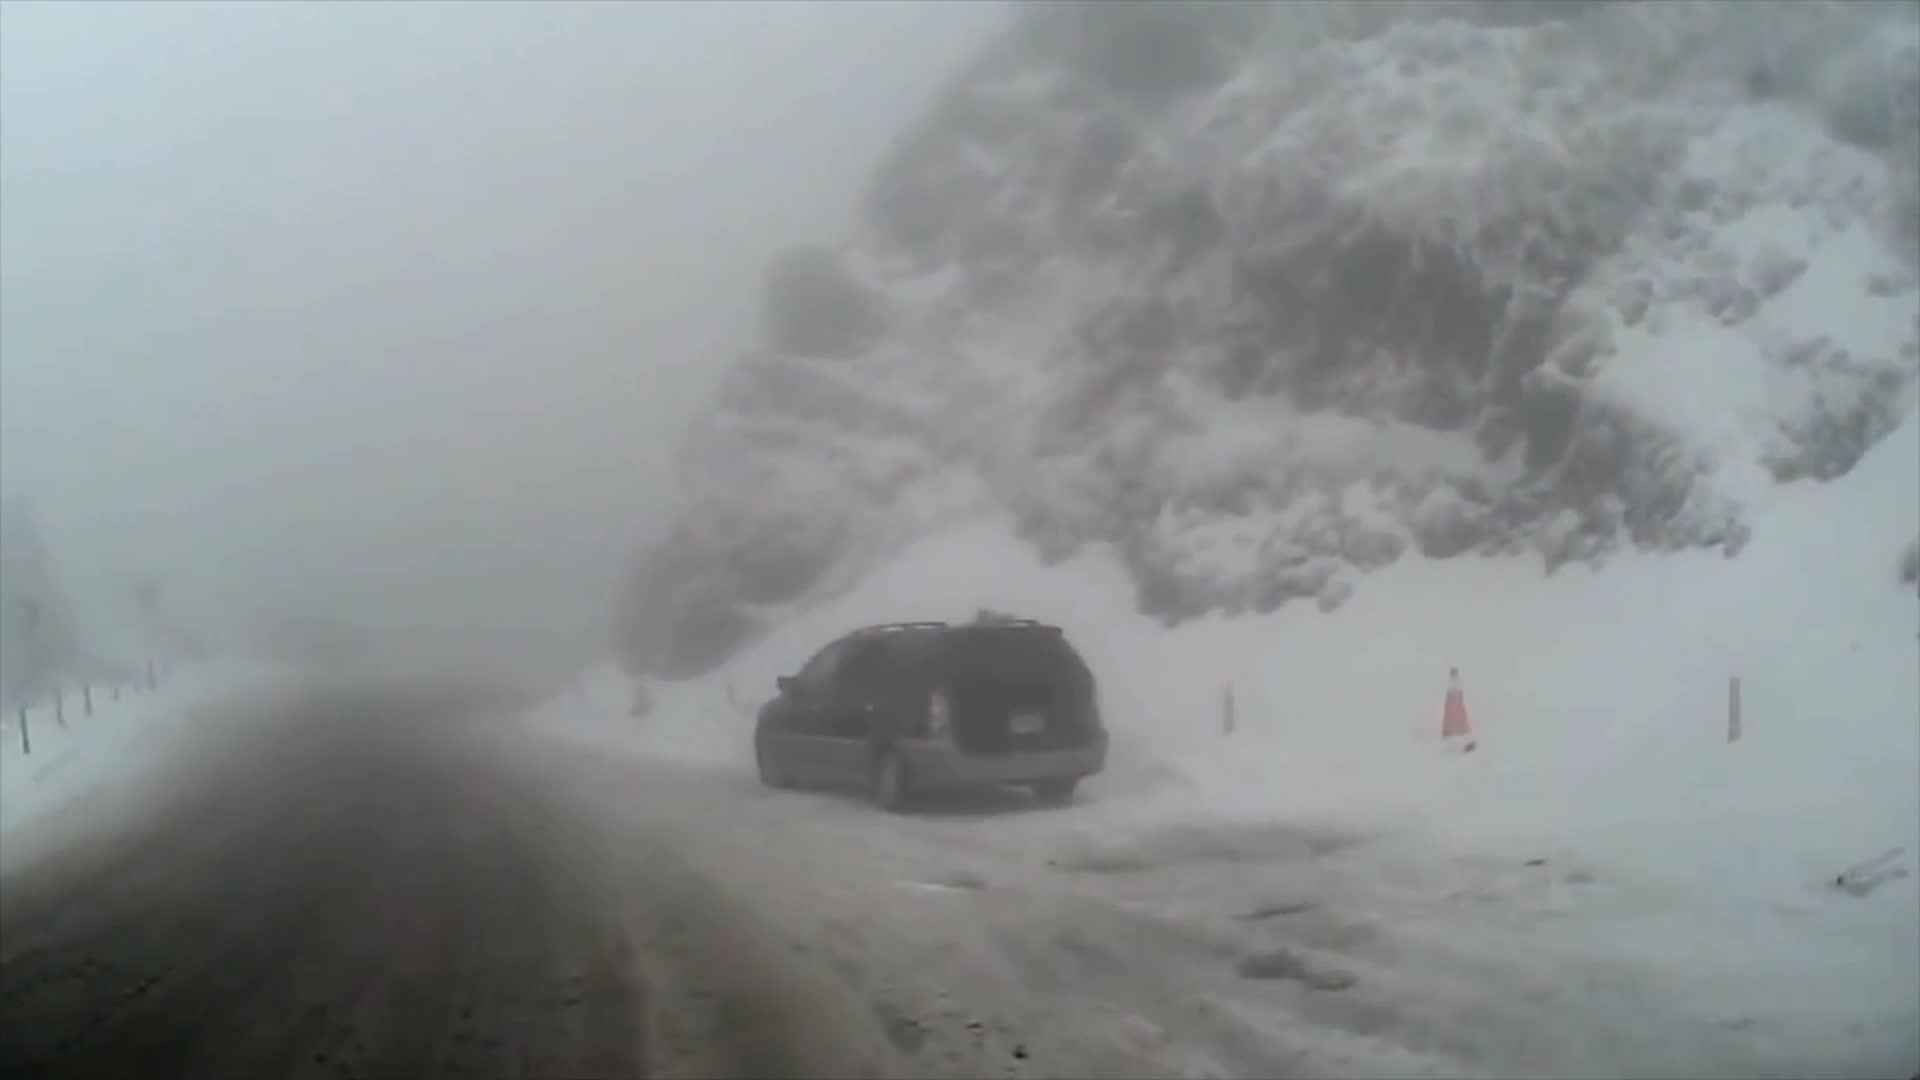vehicle: (750, 622, 1106, 818)
